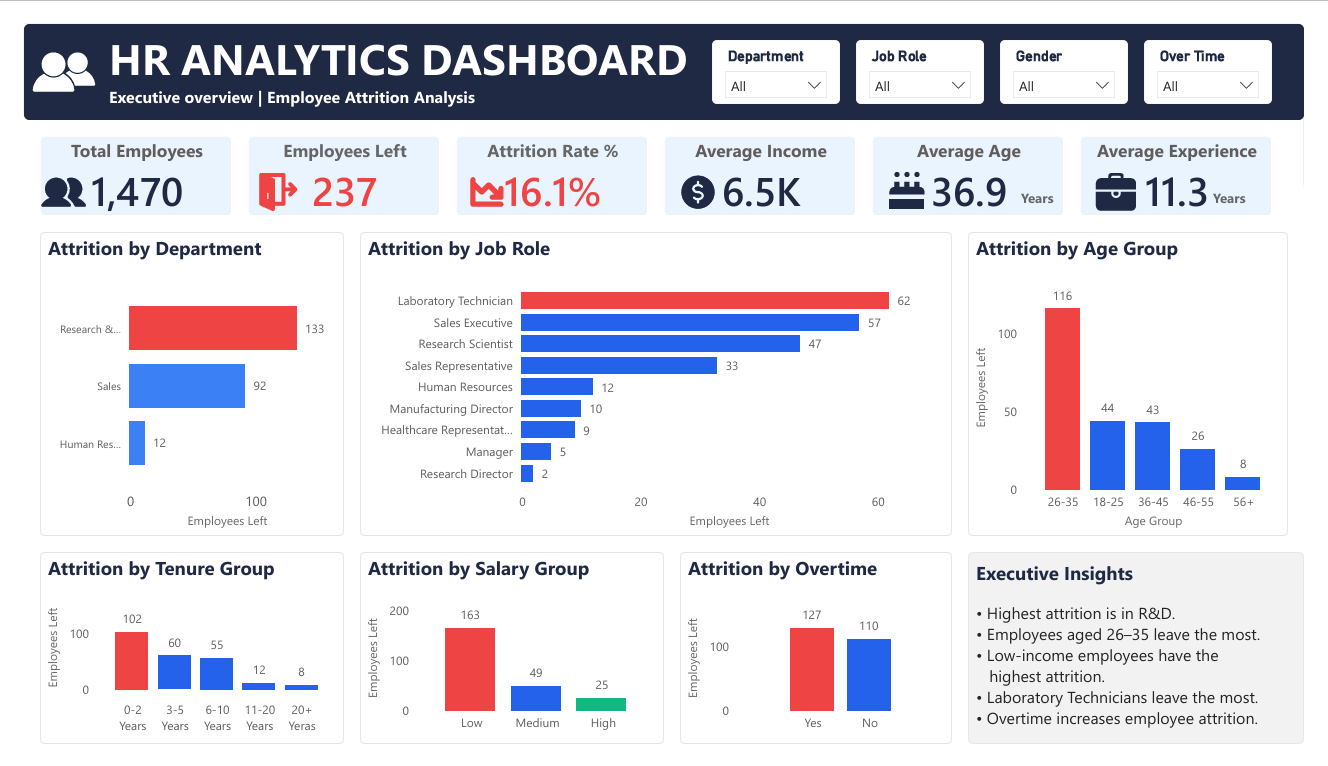

This screenshot's page, from the dashboard's own definition file:
{"tool":"powerbi","page":{"name":"HR Executive Overview","canvas":[1280,720],"ordinal":0},"visuals":[{"type":"cardVisual","fields":{"Data":["HR_Analytics.Total Employees"]},"box":[0,96,224,112],"z":0},{"type":"cardVisual","fields":{"Data":["HR_Analytics.Average Years At Company"]},"box":[1040,96,224,112],"z":1000},{"type":"clusteredBarChart","title":"Attrition by Department","fields":{"Category":["HR_Analytics.Department"],"Y":["HR_Analytics.Employees Left"]},"box":[16,208,304,304],"z":2000},{"type":"clusteredBarChart","title":"Attrition by Job Role","fields":{"Category":["HR_Analytics.Job Role"],"Y":["HR_Analytics.Employees Left"]},"box":[336,208,592,304],"z":3000},{"type":"clusteredColumnChart","title":"Attrition by Overtime","fields":{"Category":["HR_Analytics.Over Time"],"Y":["HR_Analytics.Employees Left"]},"box":[656,528,272,192],"z":4000},{"type":"clusteredColumnChart","title":"Attrition by Age Group","fields":{"Category":["HR_Analytics.Age Group"],"Y":["HR_Analytics.Employees Left"]},"box":[944,208,320,304],"z":5000},{"type":"clusteredColumnChart","title":"Attrition by Salary Group","fields":{"Category":["HR_Analytics.Income group"],"Y":["HR_Analytics.Employees Left"]},"box":[336,528,304,192],"z":6000},{"type":"clusteredColumnChart","title":"Attrition by Tenure Group","fields":{"Category":["HR_Analytics.Years at Company Group"],"Y":["HR_Analytics.Employees Left"]},"box":[16,528,304,192],"z":7000},{"type":"cardVisual","fields":{"Data":["HR_Analytics.Employees Left"]},"box":[208,96,224,112],"z":8000},{"type":"cardVisual","fields":{"Data":["HR_Analytics.Attrition Rate %"]},"box":[416,96,224,112],"z":9000},{"type":"cardVisual","fields":{"Data":["HR_Analytics.Average Income"]},"box":[624,96,224,112],"z":10000},{"type":"cardVisual","fields":{"Data":["HR_Analytics.Average Age"]},"box":[832,96,224,112],"z":11000},{"type":"slicer","fields":{"Values":["HR_Analytics.Gender"]},"box":[768,16,128,48],"z":12000},{"type":"shape","box":[0,0,1280,96],"z":13000},{"type":"textbox","box":[80,0,656,96],"z":14000},{"type":"slicer","fields":{"Values":["HR_Analytics.Department"]},"box":[688,16,128,64],"z":15000},{"type":"slicer","fields":{"Values":["HR_Analytics.Job Role"]},"box":[832,16,128,64],"z":16000},{"type":"slicer","fields":{"Values":["HR_Analytics.Over Time"]},"box":[1120,16,128,64],"z":17000},{"type":"slicer","fields":{"Values":["HR_Analytics.Gender"]},"box":[976,16,128,64],"z":18000},{"type":"textbox","box":[944,528,336,192],"z":19000},{"type":"textbox","box":[1184,160,48,32],"z":20000},{"type":"textbox","box":[992,160,48,32],"z":21000},{"type":"image","box":[16,112,47,112],"z":22000},{"type":"image","box":[231.6,112,42,112],"z":23000},{"type":"image","box":[442.2,112,42,112],"z":24000},{"type":"image","box":[652.8,112,42,112],"z":25000},{"type":"image","box":[863.4,112,40,112],"z":26000},{"type":"image","box":[1072,112,40,112],"z":27000},{"type":"image","box":[0,0,80,96],"z":28000}]}

Visuals, with their boxes in screenshot pixels (x1, y1, x2, y2), scaled from the page's 1280x720 canvas onto the 1328x766 screenshot:
cardVisual - HR_Analytics.Total Employees: 0/102/232/221
cardVisual - HR_Analytics.Average Years At Company: 1079/102/1311/221
"Attrition by Department" clusteredBarChart: 17/221/332/545
"Attrition by Job Role" clusteredBarChart: 349/221/963/545
"Attrition by Overtime" clusteredColumnChart: 681/562/963/765
"Attrition by Age Group" clusteredColumnChart: 979/221/1311/545
"Attrition by Salary Group" clusteredColumnChart: 349/562/664/765
"Attrition by Tenure Group" clusteredColumnChart: 17/562/332/765
cardVisual - HR_Analytics.Employees Left: 216/102/448/221
cardVisual - HR_Analytics.Attrition Rate %: 432/102/664/221
cardVisual - HR_Analytics.Average Income: 647/102/880/221
cardVisual - HR_Analytics.Average Age: 863/102/1096/221
slicer - HR_Analytics.Gender: 797/17/930/68
shape: 0/0/1327/102
textbox: 83/0/764/102
slicer - HR_Analytics.Department: 714/17/847/85
slicer - HR_Analytics.Job Role: 863/17/996/85
slicer - HR_Analytics.Over Time: 1162/17/1295/85
slicer - HR_Analytics.Gender: 1013/17/1145/85
textbox: 979/562/1327/765
textbox: 1228/170/1278/204
textbox: 1029/170/1079/204
image: 17/119/65/238
image: 240/119/284/238
image: 459/119/502/238
image: 677/119/721/238
image: 896/119/937/238
image: 1112/119/1154/238
image: 0/0/83/102
